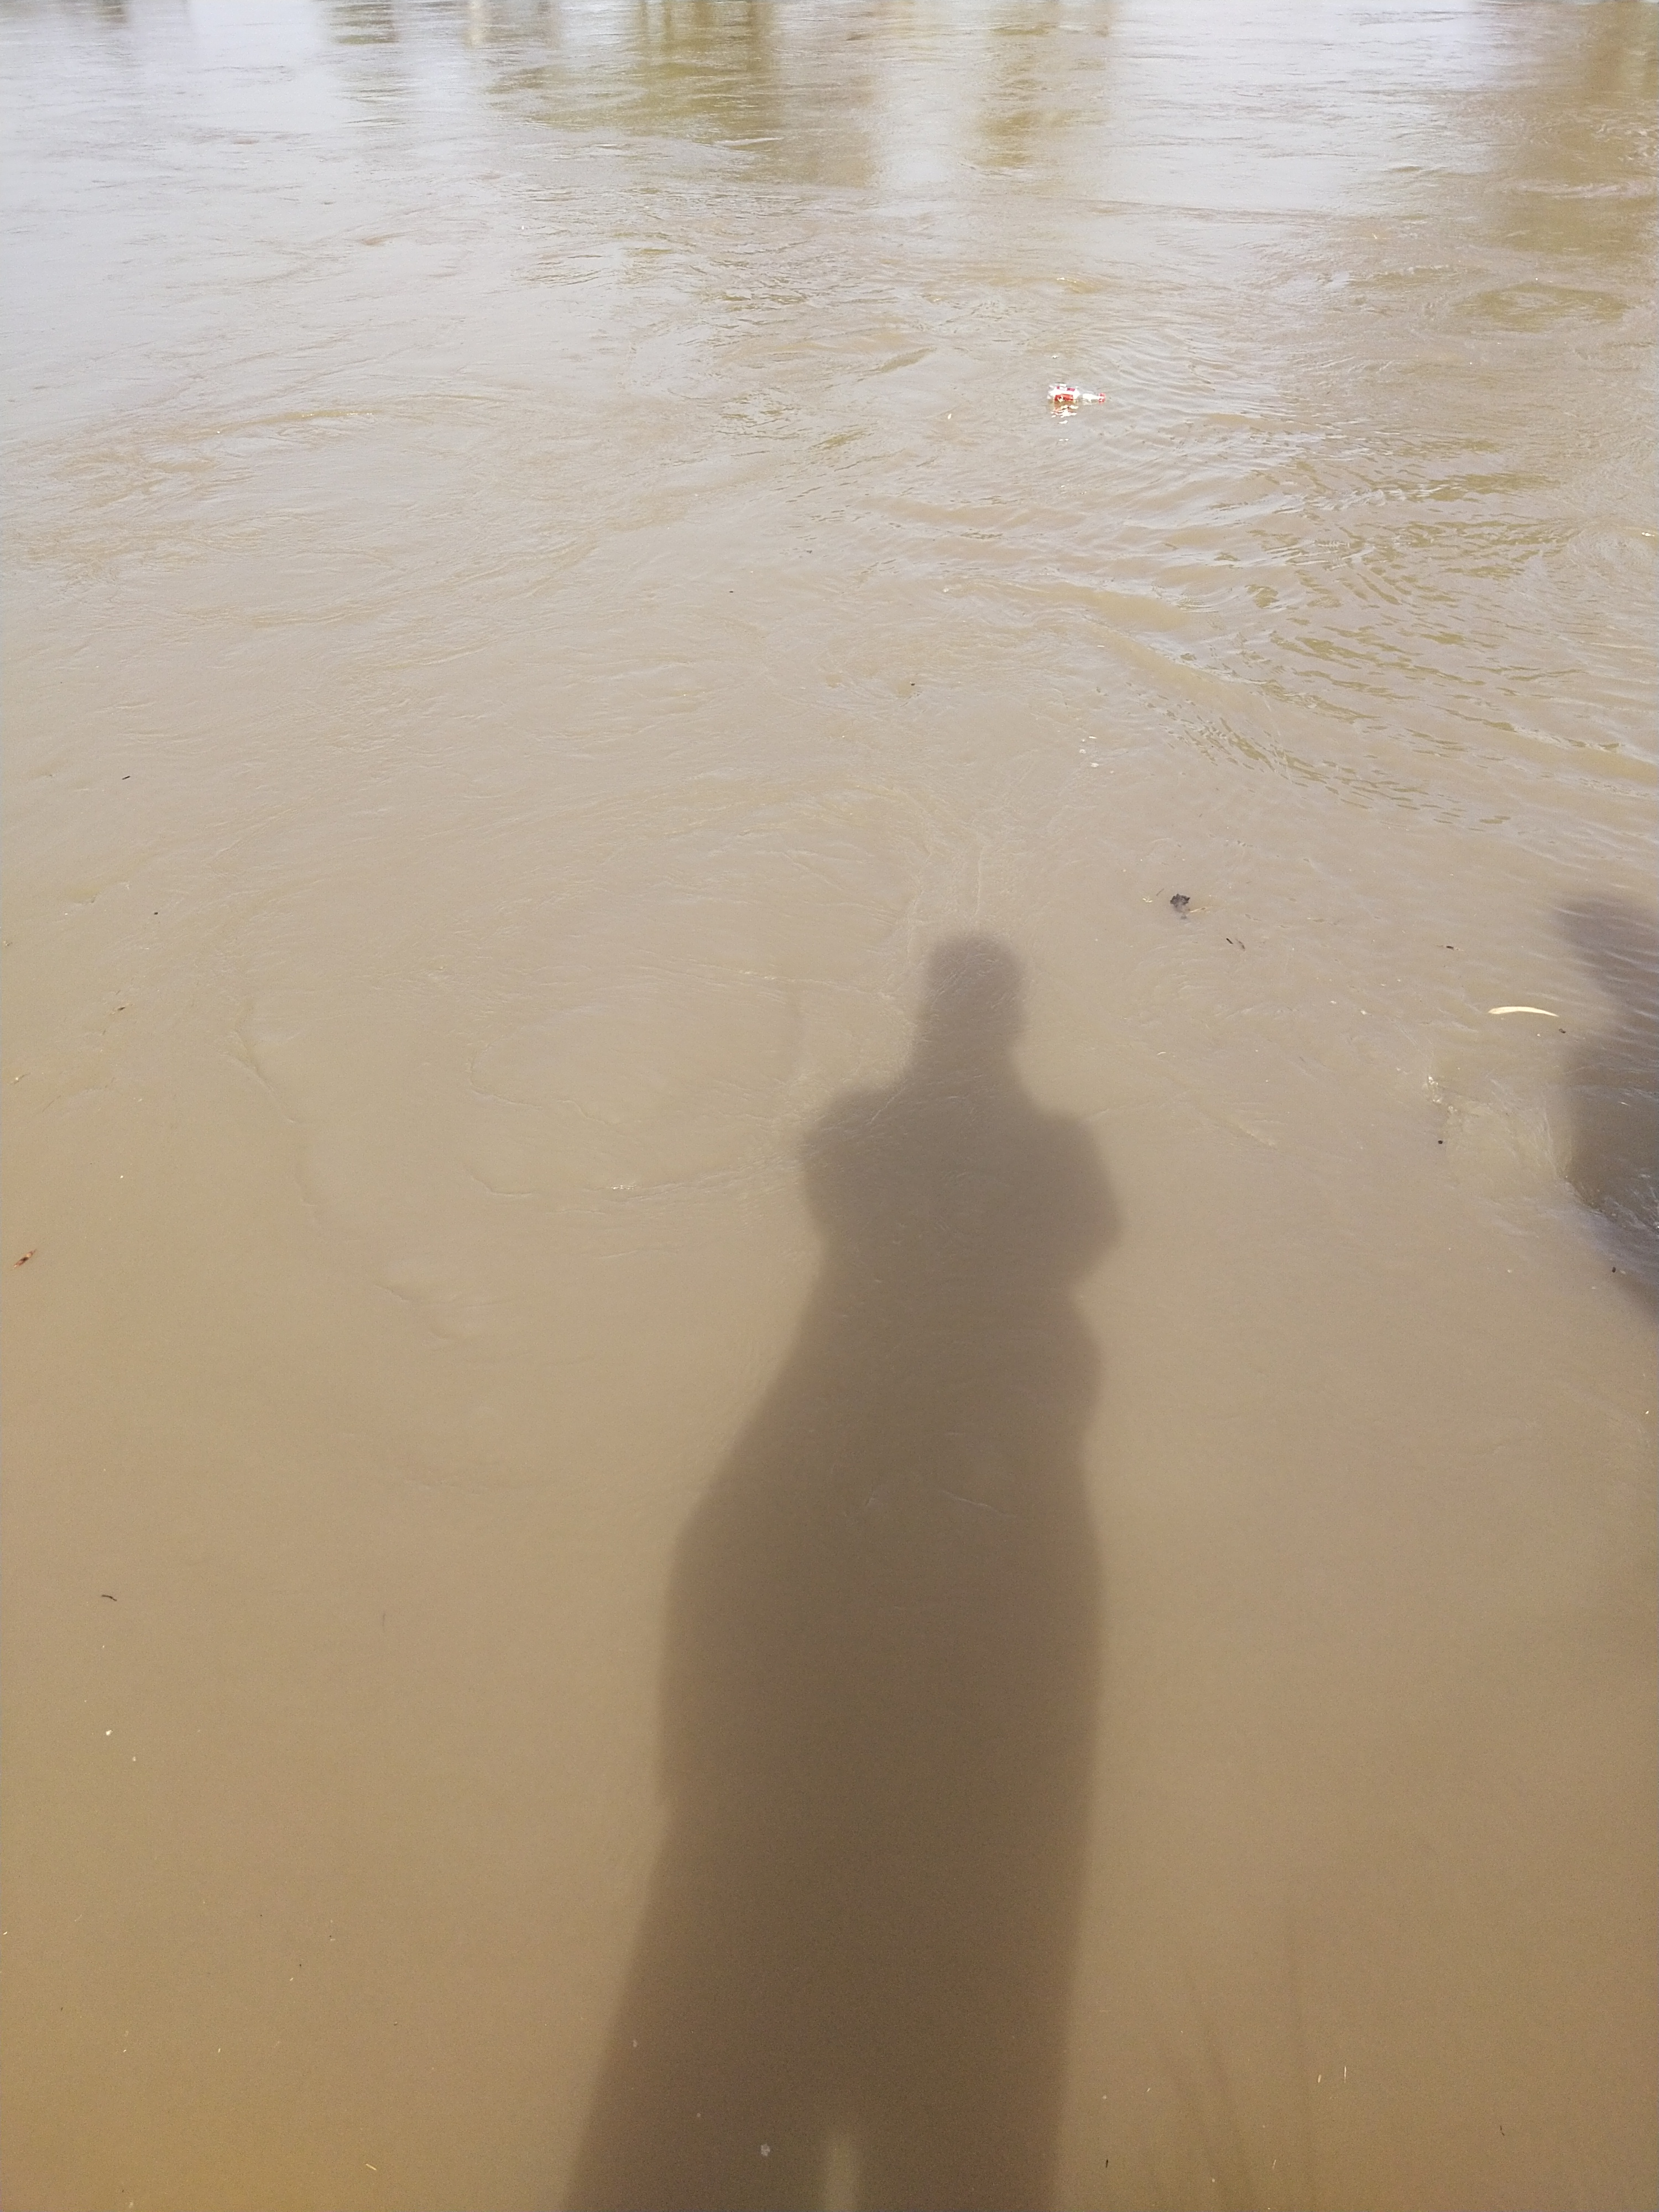Plastic Bottle: (1046, 381, 1105, 404)
